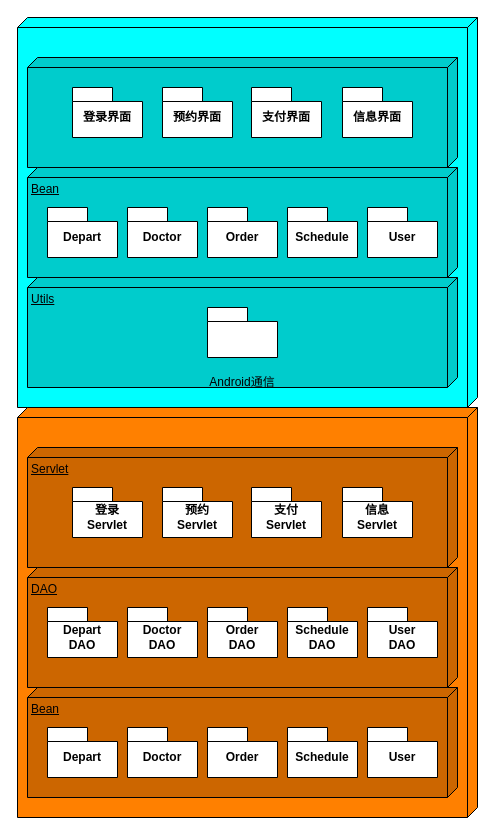
The diagram is 495 pixels wide and 835 high, and some of its shapes have lost their labels. The shapes that lost their labels are listed below. From the top down, each one's box as (x1, y1, x2, y2) in pixels, then its label:
(26, 56, 458, 168): UI
(16, 16, 478, 408): 前端APP应用
(206, 306, 278, 358): Netutil
(16, 406, 478, 818): 后台服务器
